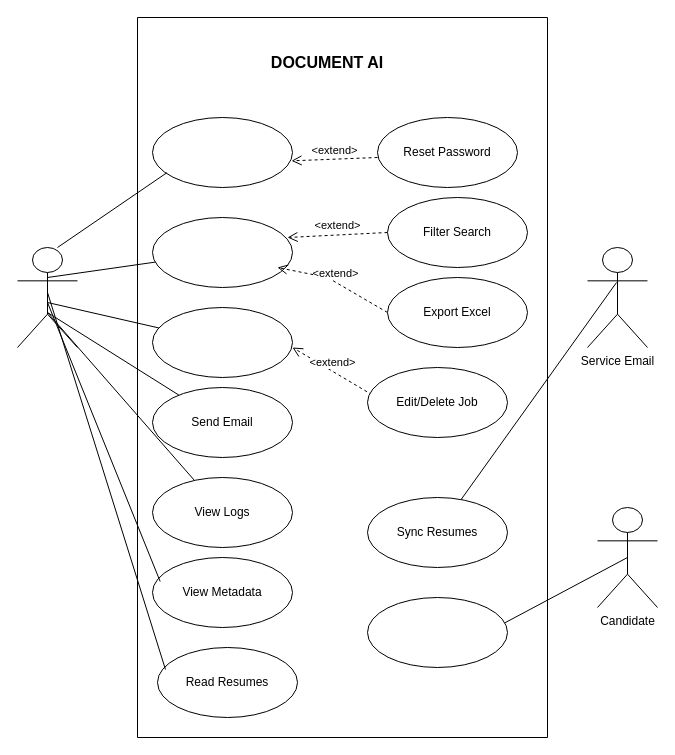
This 675x755 diagram has some shape labels left out. Each missing label, with the centre of its shape:
Create Job: the point at 222,342
HR: the point at 47,297
Login: the point at 222,152
Recieve Email: the point at 437,632
Search Document: the point at 222,252
